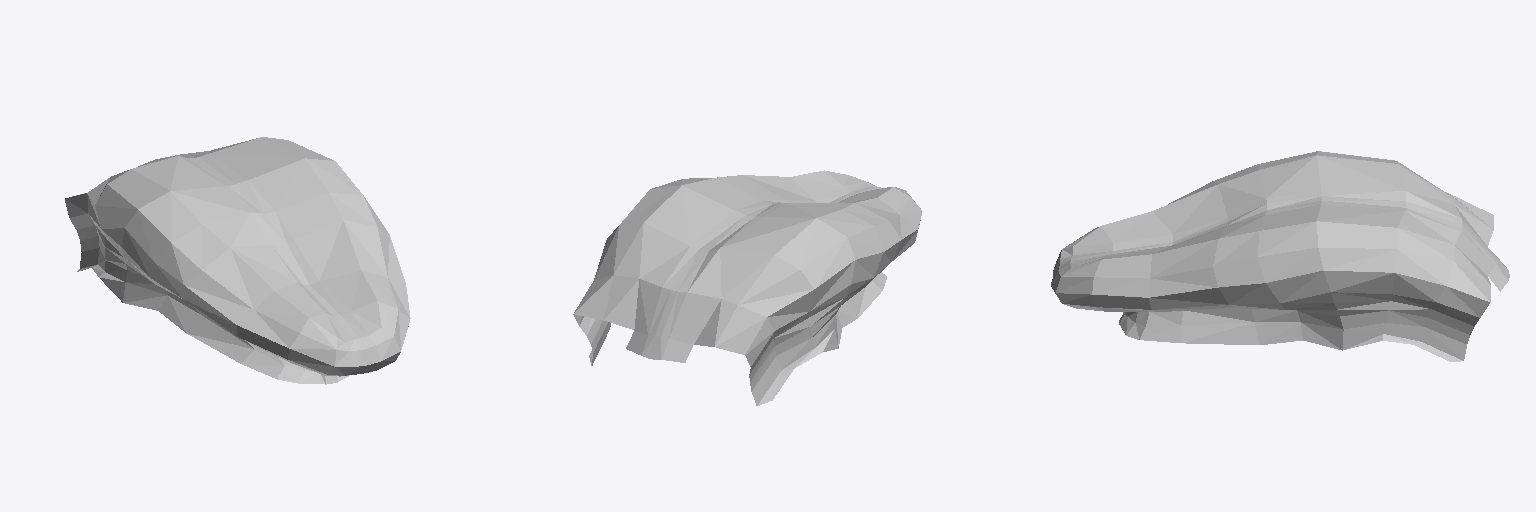
Rendered from Victor_tongue.obj.
The picture shows the model from 3 angles: view 1: azimuth 30°, elevation 25°; view 2: azimuth 150°, elevation 25°; view 3: azimuth 270°, elevation 25°; orthographic projection.
Visible parts, largest first — view 1: Victor_tongue Victor_Mesh def:geo FTI_Victor; view 2: Victor_tongue Victor_Mesh def:geo FTI_Victor; view 3: Victor_tongue Victor_Mesh def:geo FTI_Victor.
Part boxes in pixels (bbox=[...]): Victor_tongue Victor_Mesh def:geo FTI_Victor: bbox=[65, 137, 410, 384]; Victor_tongue Victor_Mesh def:geo FTI_Victor: bbox=[573, 170, 921, 405]; Victor_tongue Victor_Mesh def:geo FTI_Victor: bbox=[1051, 151, 1509, 361].
Bounding box in the file's own units: 0.6177 × 0.366 × 1.12.